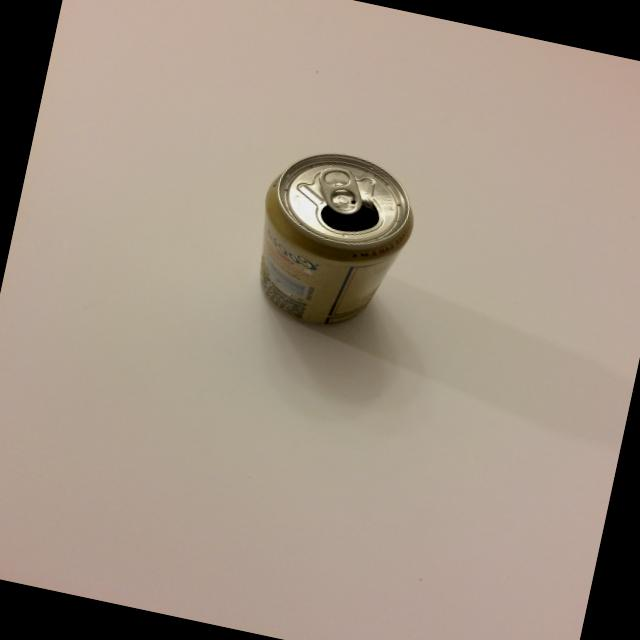Metal: (228, 117, 436, 344)
